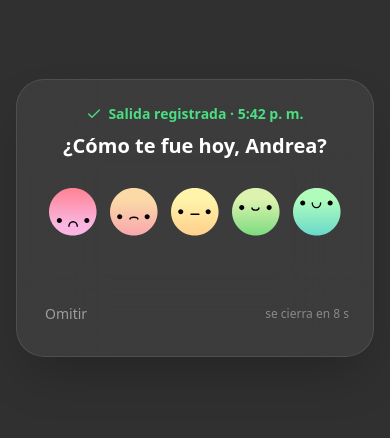
Scenario: la carita › con Muy mal, Mal o Normal salen los motivos de la empresa y «Otro»
Step 1. Click the radio button named "Normal" → (195,212), box [167, 184, 223, 240]
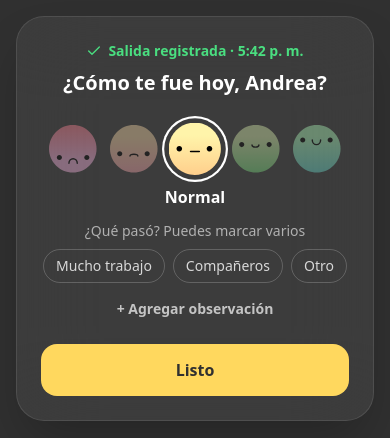
Result: the text "¿Qué pasó? Puedes marcar varios" is shown at [85, 220, 305, 240]
Result: the button "Mucho trabajo" is shown at [43, 248, 165, 282]
Result: the button "Compañeros" is shown at [173, 248, 283, 282]
